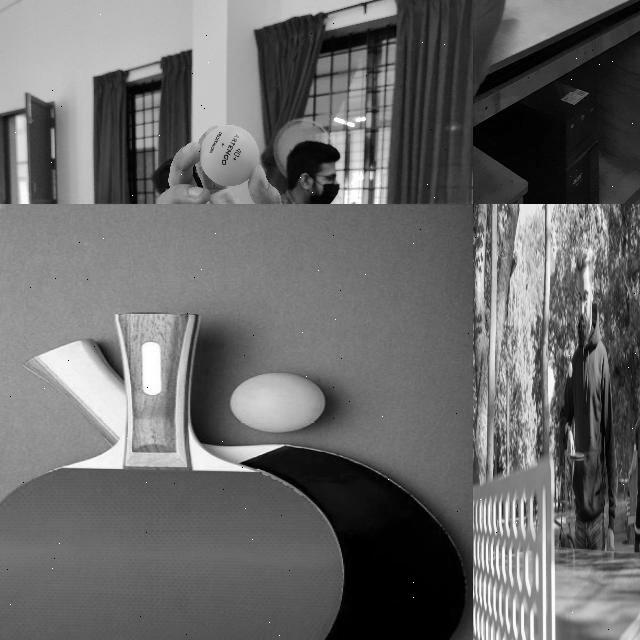ping-pong-ball: (230, 372, 324, 432), (198, 124, 258, 186), (568, 361, 572, 377)
